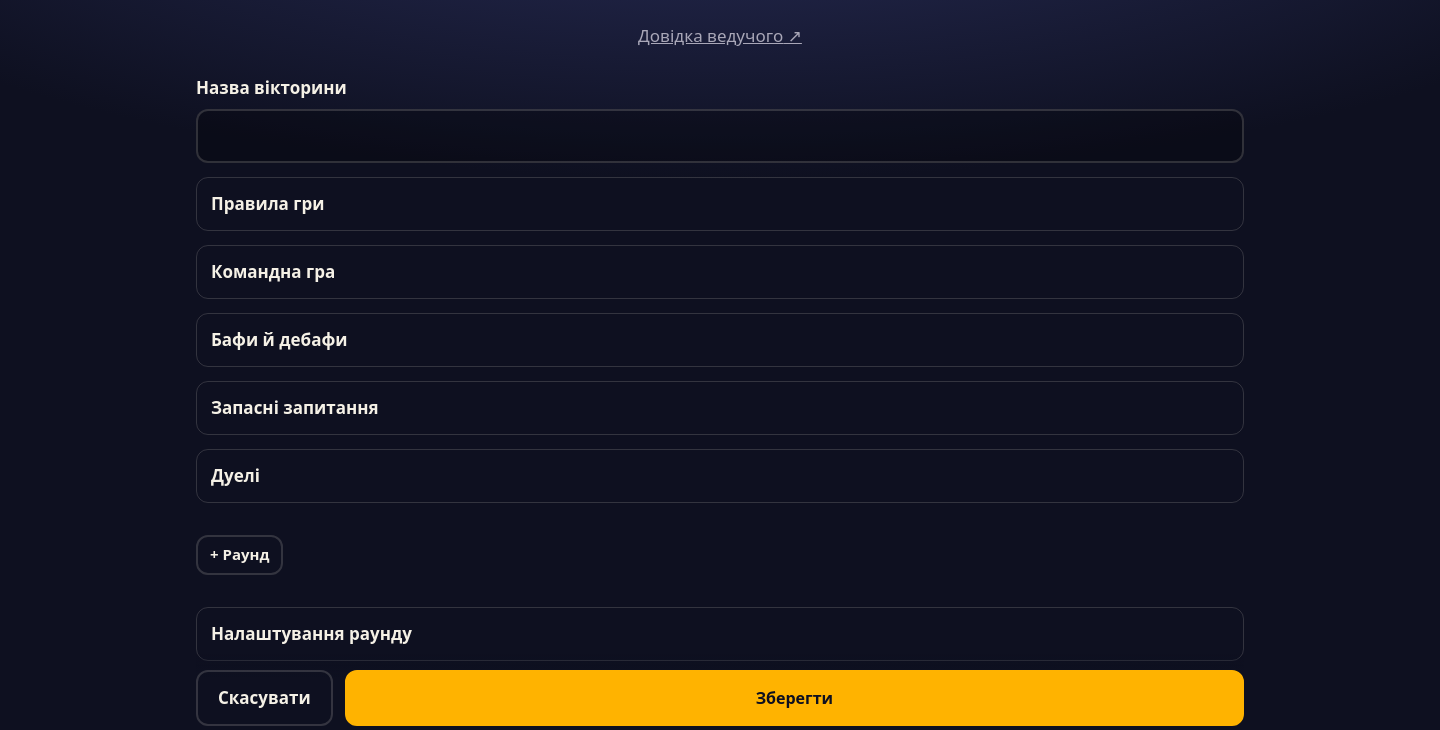
Scenario: EditQuiz › keeps the editor open and explains when saving fails
Type "Гра" into the field labelled "Назва вікторини". click: {"x": 720, "y": 136}
box: [196, 109, 1244, 163]
(page scrolled)
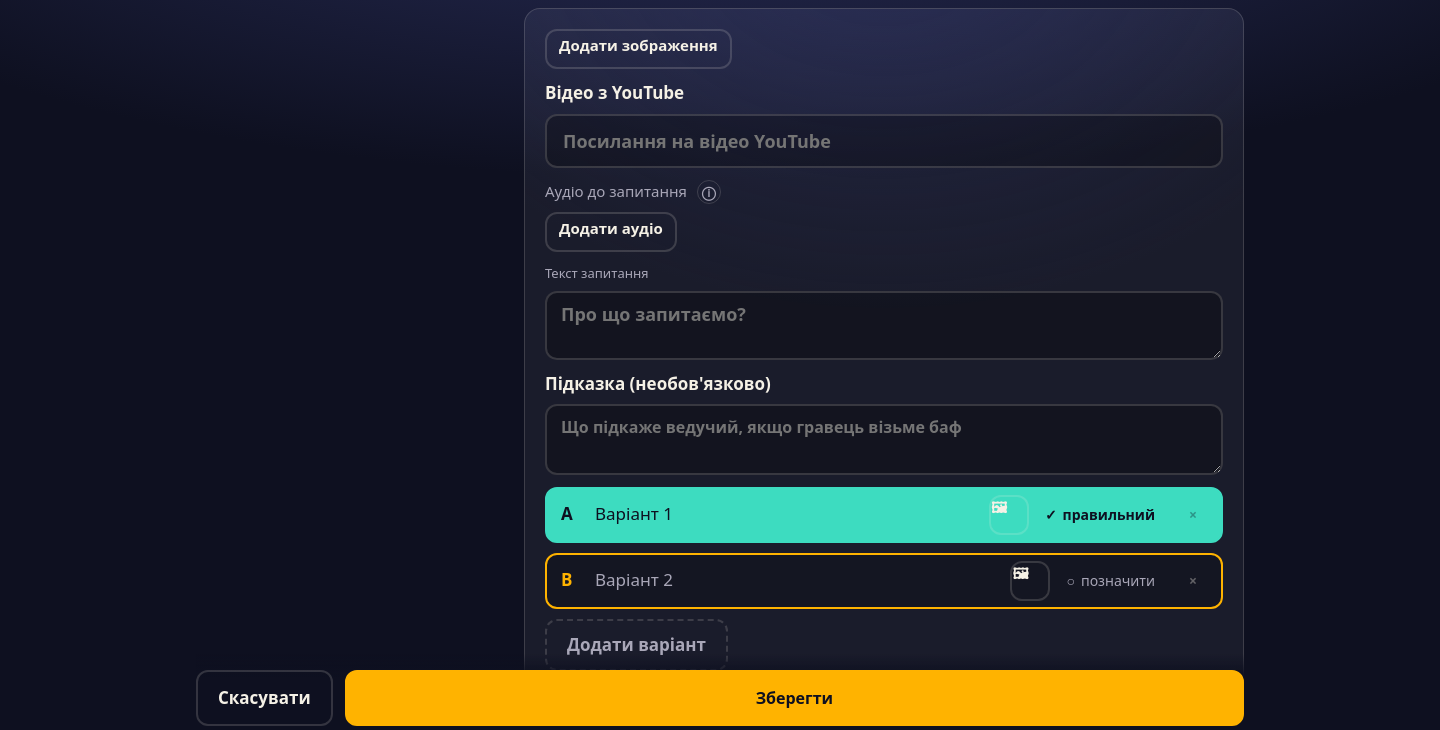
Type "Так?" into the text box labelled "Текст запитання". click: {"x": 884, "y": 325}
box: [545, 291, 1223, 360]
(page scrolled)
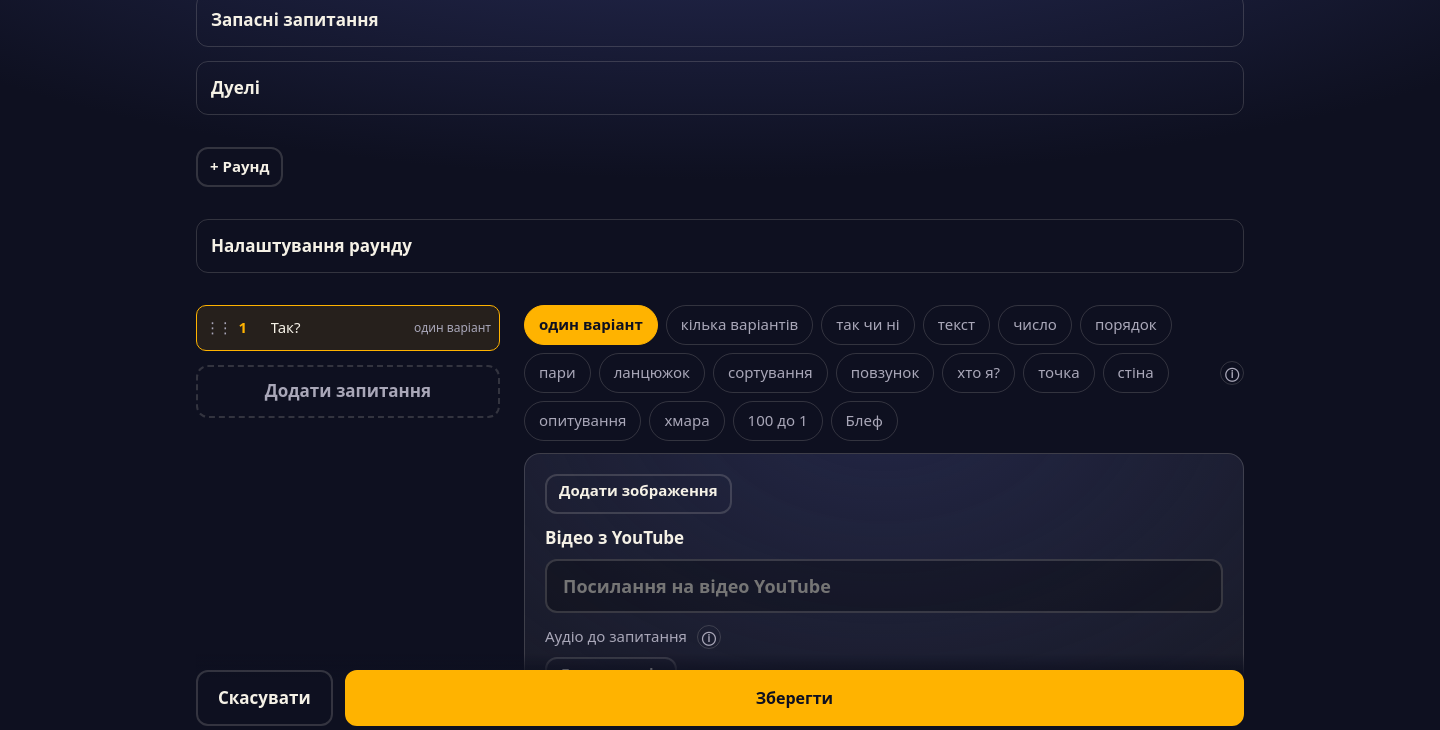
Click the button "так чи ні". click: {"x": 868, "y": 325}
box: [821, 305, 915, 345]
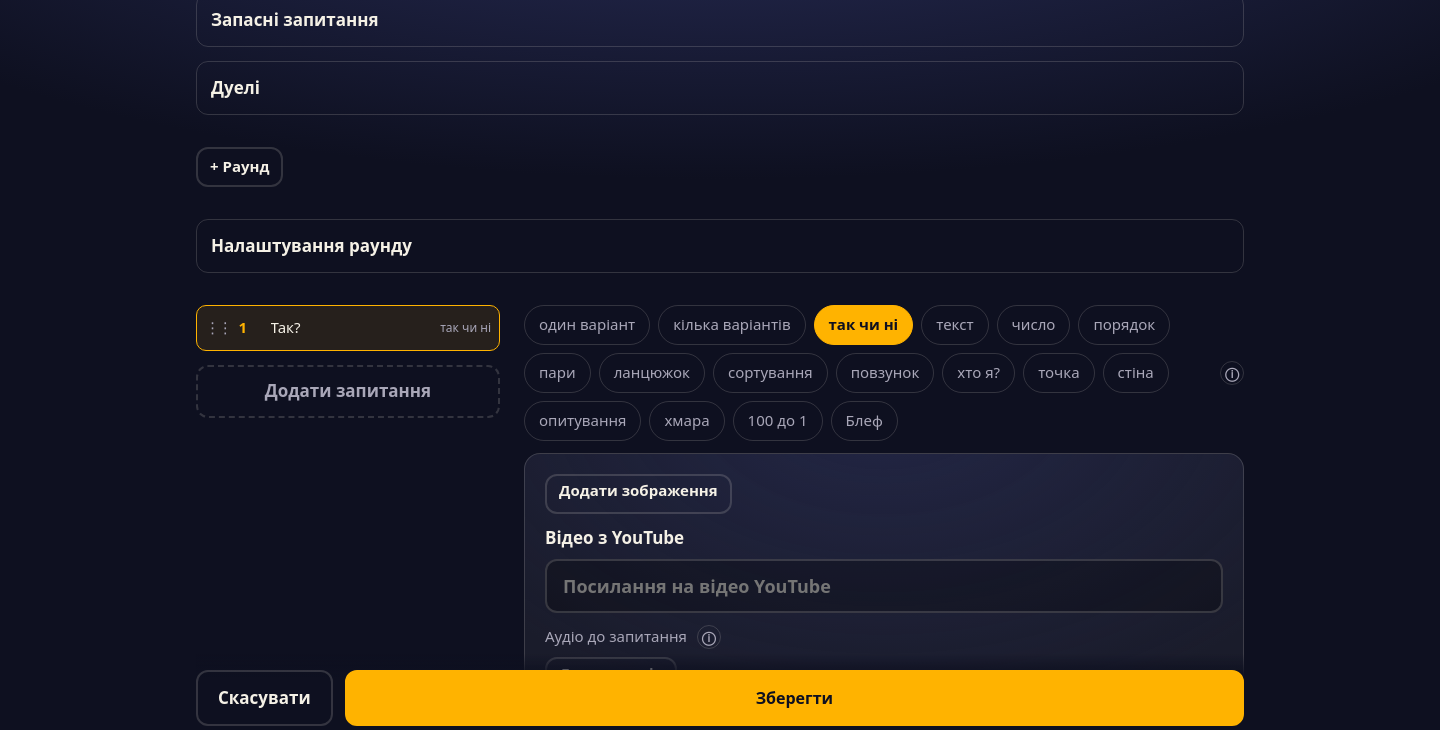
Click the button "Зберегти". click: {"x": 794, "y": 698}
box: [345, 670, 1244, 726]
(page scrolled)
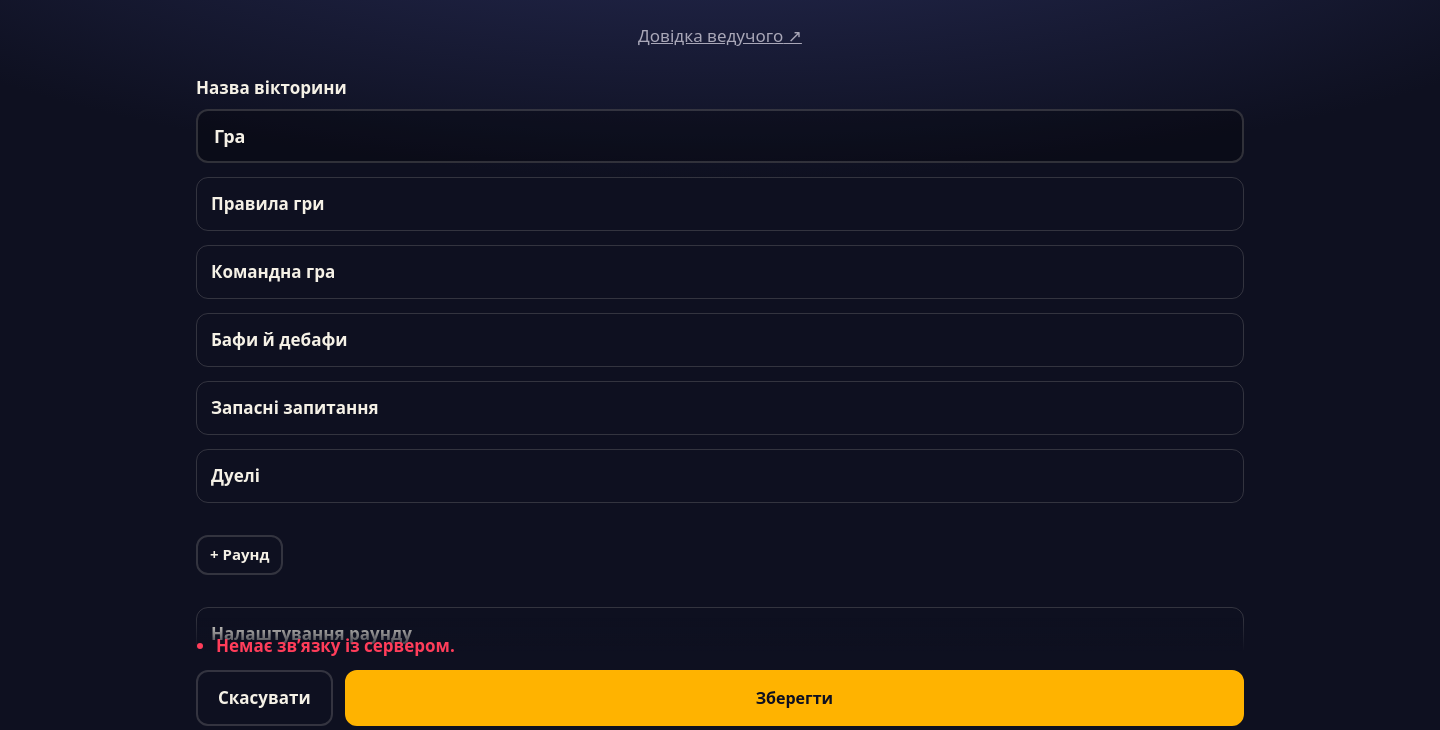
Now the message reads "Немає зв’язку із сервером.", box [216, 633, 455, 656]
